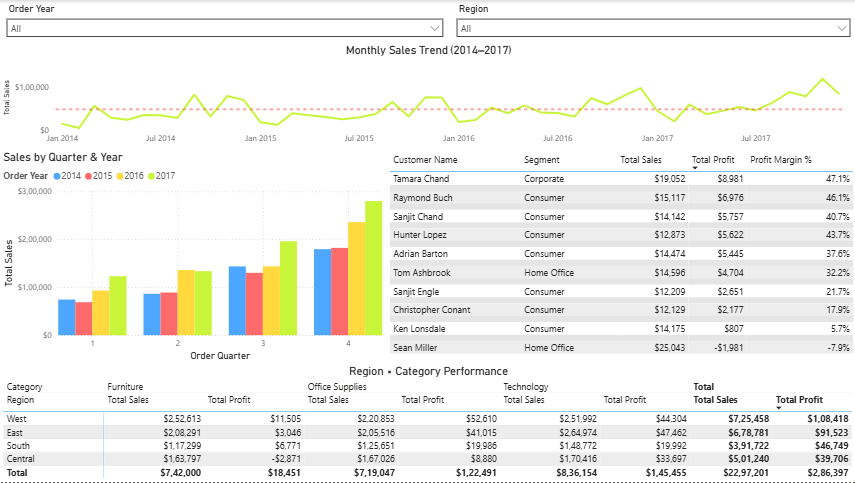

Layout of this report page (visuals, bound fields, positions):
{"tool":"powerbi","page":{"name":"Trends & Insights","canvas":[1280,720],"ordinal":2},"visuals":[{"type":"lineChart","title":"Monthly Sales Trend (2014–2017)","fields":{"Y":["superstore_cleaned.Total Sales"],"Category":["superstore_cleaned.Order YearMonth"]},"box":[0,64,1280,160],"z":0},{"type":"clusteredColumnChart","title":"Sales by Quarter & Year","fields":{"Category":["superstore_cleaned.Order Quarter"],"Y":["superstore_cleaned.Total Sales"],"Series":["superstore_cleaned.Order Year"]},"box":[0,224,576,320],"z":1000},{"type":"tableEx","fields":{"Values":["superstore_cleaned.Customer Name","superstore_cleaned.Segment","superstore_cleaned.Total Sales","superstore_cleaned.Total Profit","superstore_cleaned.Profit Margin %"]},"box":[576,224,704,320],"z":2000},{"type":"pivotTable","title":"Region × Category Performance","fields":{"Rows":["superstore_cleaned.Region"],"Columns":["superstore_cleaned.Category"],"Values":["superstore_cleaned.Total Sales","superstore_cleaned.Total Profit"]},"box":[0,544,1280,176],"z":3000},{"type":"slicer","fields":{"Values":["superstore_cleaned.Order Year"]},"box":[0,0,672,64],"z":3001},{"type":"slicer","fields":{"Values":["superstore_cleaned.Region"]},"box":[672,0,608,64],"z":3002}]}

Visuals, with their boxes in screenshot pixels (x1, y1, x2, y2), scaled from the page's 1280x720 canvas onto the 855x483 screenshot:
"Monthly Sales Trend (2014–2017)" lineChart: 0:43:854:150
"Sales by Quarter & Year" clusteredColumnChart: 0:150:385:365
tableEx - superstore_cleaned.Customer Name x superstore_cleaned.Segment: 385:150:854:365
"Region × Category Performance" pivotTable: 0:365:854:482
slicer - superstore_cleaned.Order Year: 0:0:449:43
slicer - superstore_cleaned.Region: 449:0:854:43
